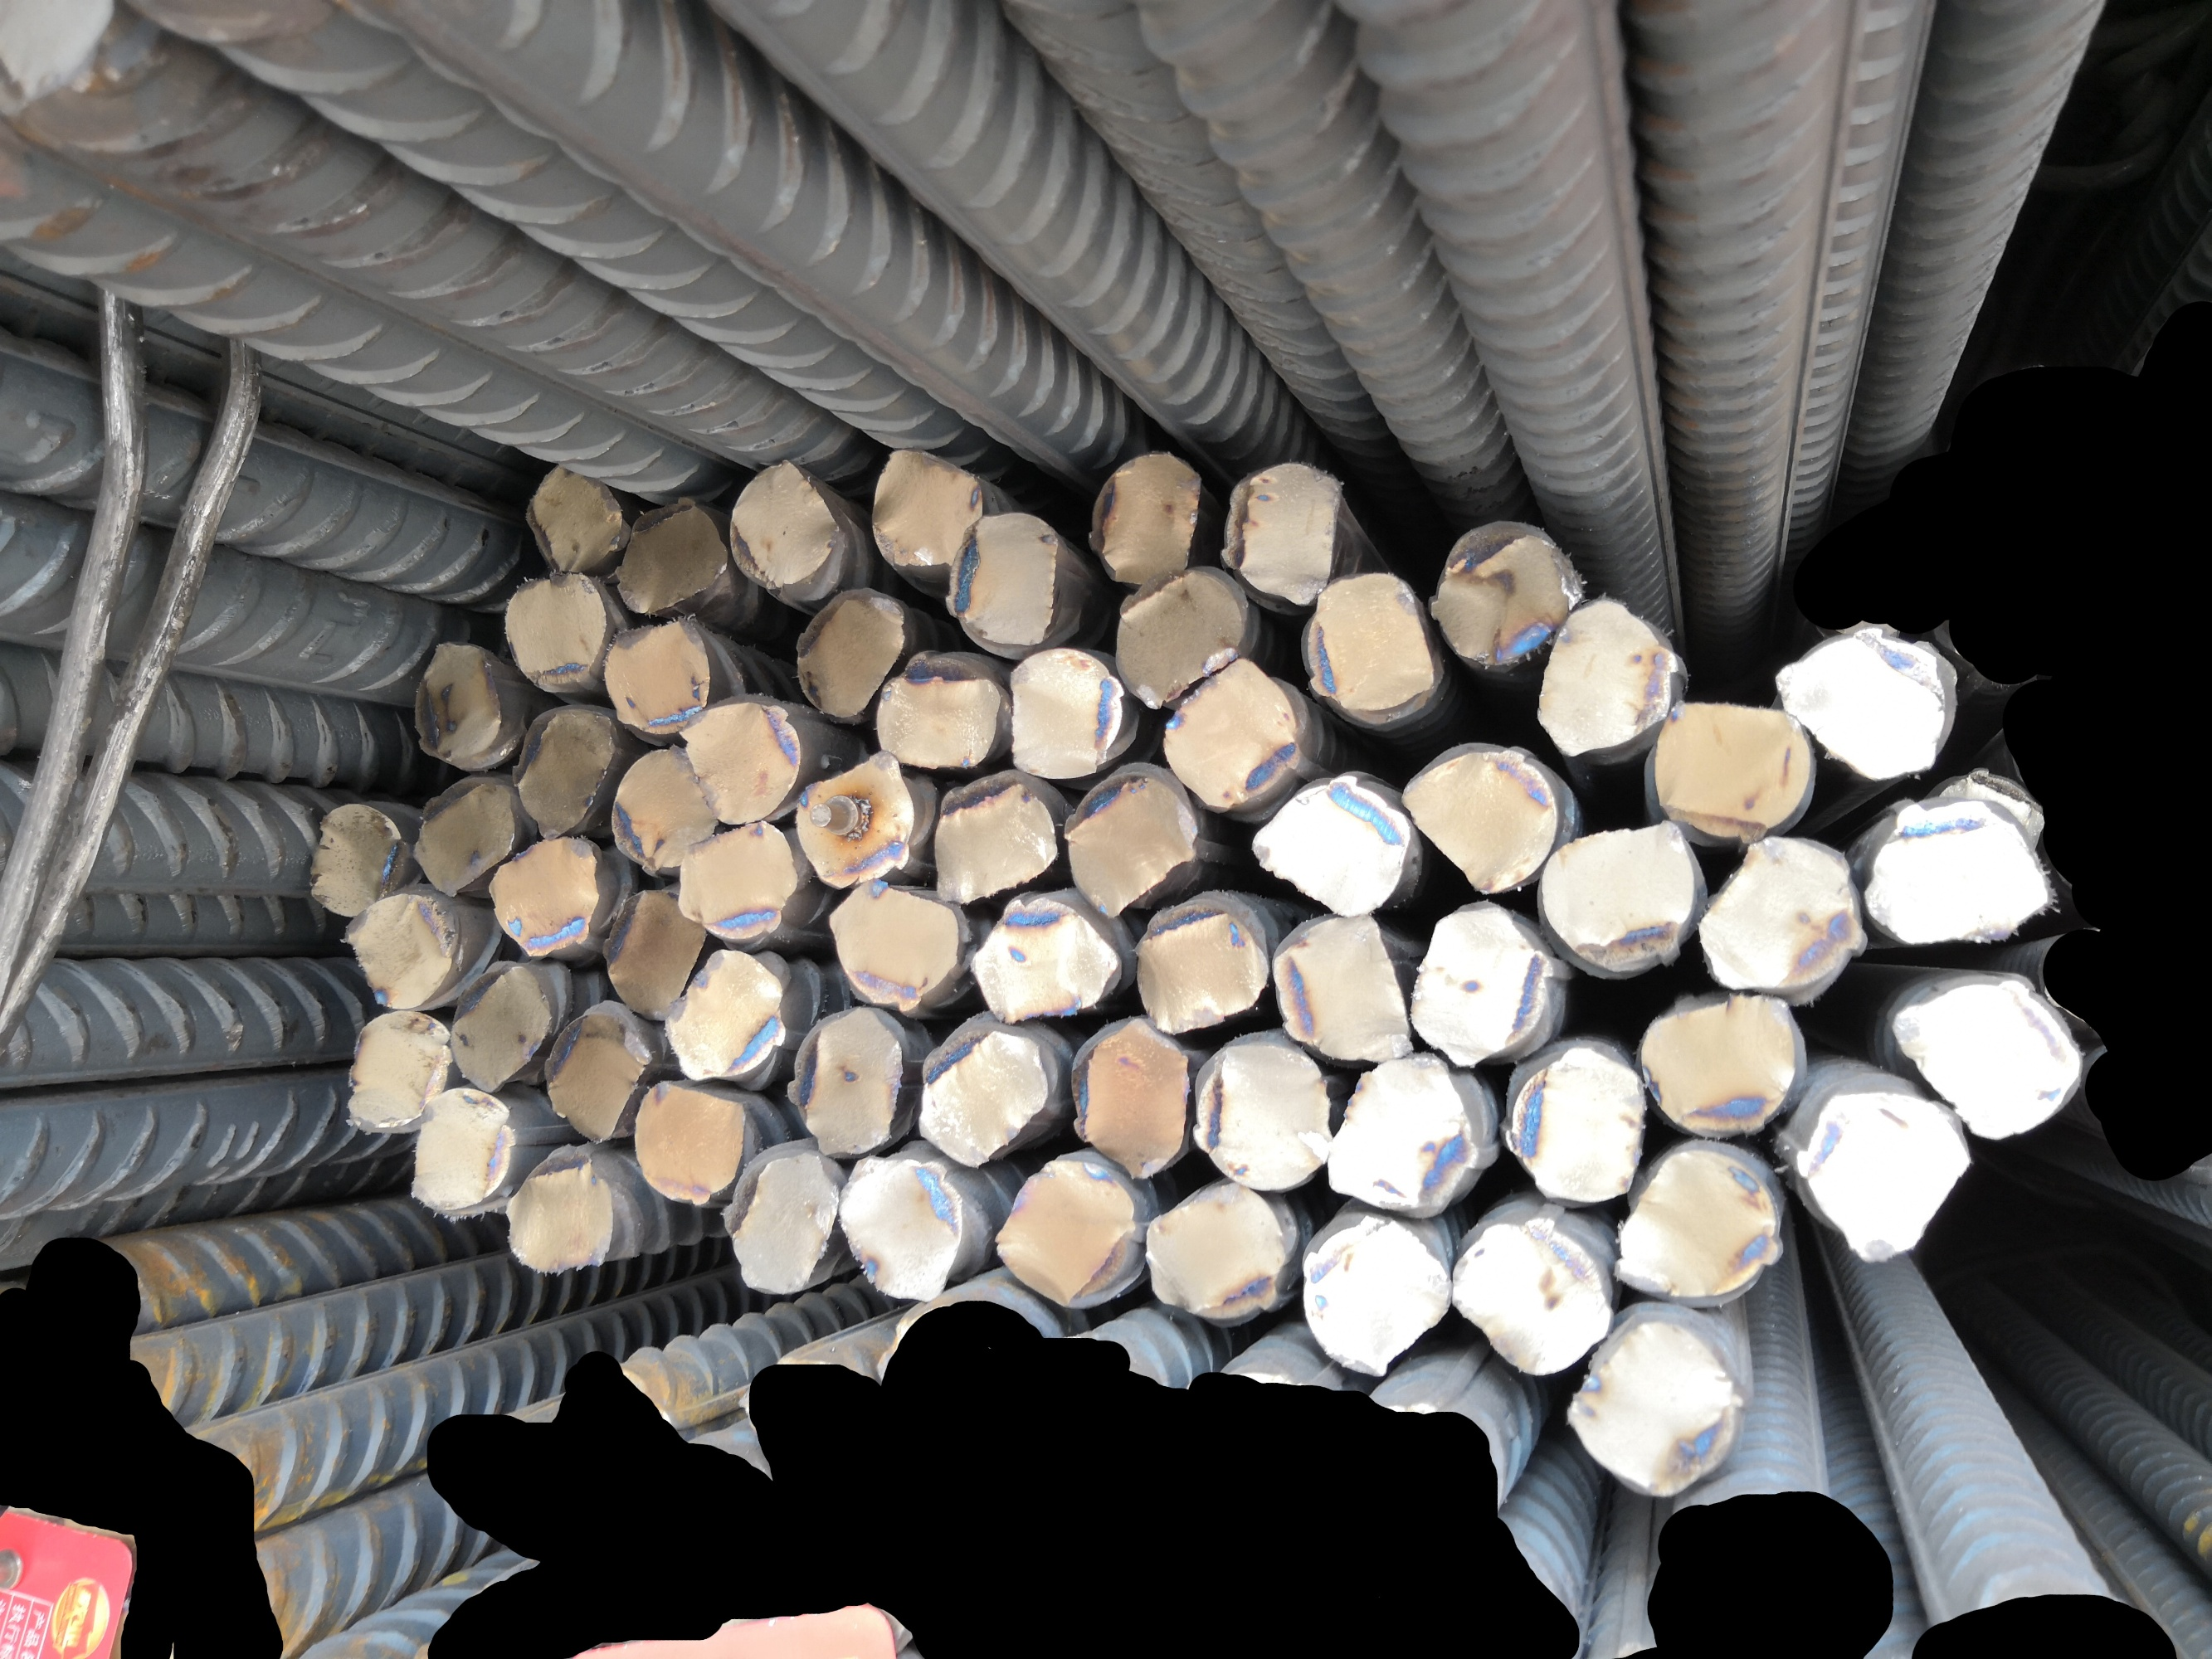rebar: (1891, 974, 2085, 1145), (1795, 1080, 1971, 1267), (1571, 1317, 1745, 1502), (1773, 624, 1952, 788), (1865, 796, 2057, 950), (1694, 833, 1867, 999), (1445, 1216, 1616, 1382), (1616, 1143, 1787, 1304), (1300, 1213, 1459, 1378), (1405, 899, 1555, 1073), (1398, 742, 1564, 897), (1250, 767, 1414, 922), (1328, 1051, 1483, 1215), (1639, 990, 1806, 1140), (1647, 699, 1816, 847), (1421, 516, 1584, 667), (1536, 596, 1680, 765), (1537, 823, 1700, 971), (1157, 653, 1304, 816), (1503, 1044, 1649, 1206), (997, 1157, 1142, 1314), (1272, 906, 1415, 1065), (1194, 1033, 1337, 1192), (967, 887, 1124, 1028), (1297, 561, 1436, 718), (1142, 1180, 1288, 1324), (1062, 769, 1203, 918), (913, 1019, 1053, 1171), (1069, 1016, 1191, 1182), (835, 1155, 967, 1307), (1131, 897, 1269, 1040), (824, 875, 962, 1014), (1114, 566, 1245, 713), (1220, 458, 1347, 608), (654, 946, 791, 1084), (938, 507, 1063, 657), (784, 1006, 906, 1157), (723, 1148, 844, 1298), (793, 749, 919, 892), (933, 770, 1060, 906), (1008, 640, 1126, 784), (790, 584, 910, 725), (675, 697, 804, 828), (1084, 450, 1206, 587), (539, 1004, 654, 1148), (675, 819, 798, 948), (873, 652, 1004, 774), (628, 1079, 750, 1208), (607, 495, 730, 620), (340, 885, 462, 1012), (722, 458, 842, 587), (485, 835, 603, 965), (506, 702, 617, 838), (865, 446, 987, 570), (499, 1154, 621, 1276), (596, 887, 708, 1019), (605, 746, 722, 871), (410, 1086, 516, 1223), (446, 958, 553, 1094), (596, 615, 713, 737), (343, 1007, 453, 1134), (502, 570, 612, 694), (413, 774, 519, 899), (406, 640, 507, 765), (521, 462, 626, 572), (307, 802, 404, 918), (1935, 758, 2050, 850)
